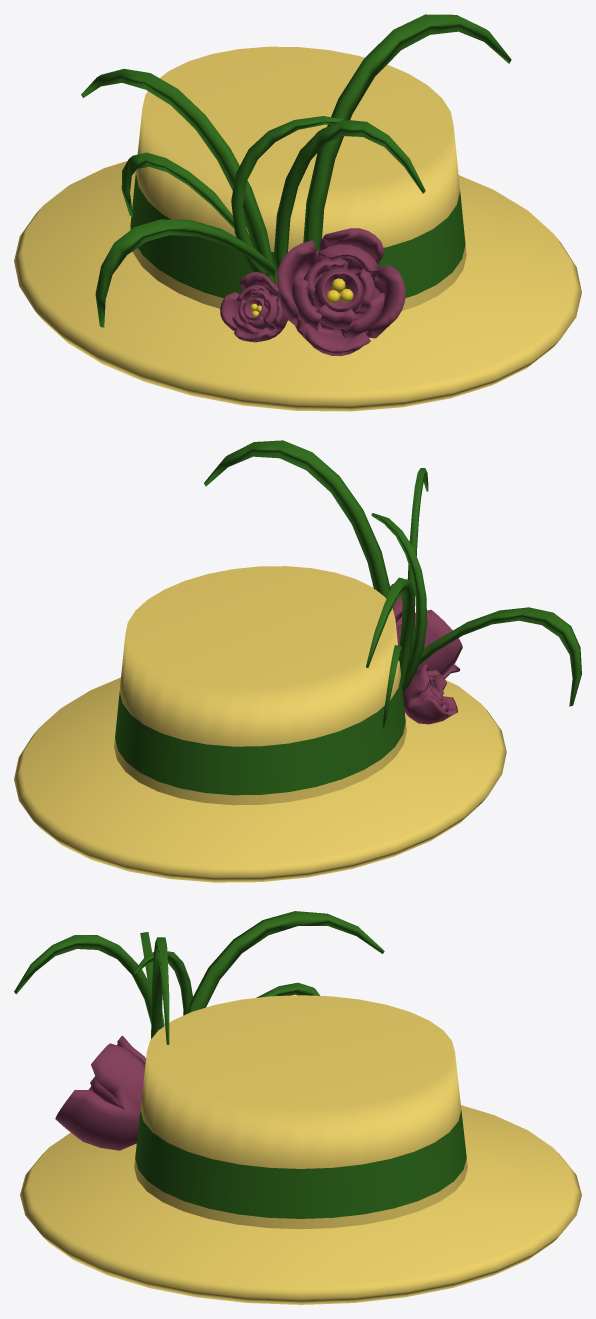
File: hatSun.fbx
The picture shows the model from 3 angles, top to bottom: view 1: azimuth 30°, elevation 25°; view 2: azimuth 150°, elevation 25°; view 3: azimuth 270°, elevation 25°; orthographic projection. The views are drawn at different scales.
Parts seen in each view (by area): view 1: Sun Hat; view 2: Sun Hat; view 3: Sun Hat.
Boxes of the visible parts, left/top/right/bottom form: Sun Hat: left=14, top=14, right=581, bottom=411; Sun Hat: left=14, top=440, right=581, bottom=882; Sun Hat: left=14, top=911, right=581, bottom=1304.
Bounding box in the file's own units: 25.16 × 26.45 × 14.48.
